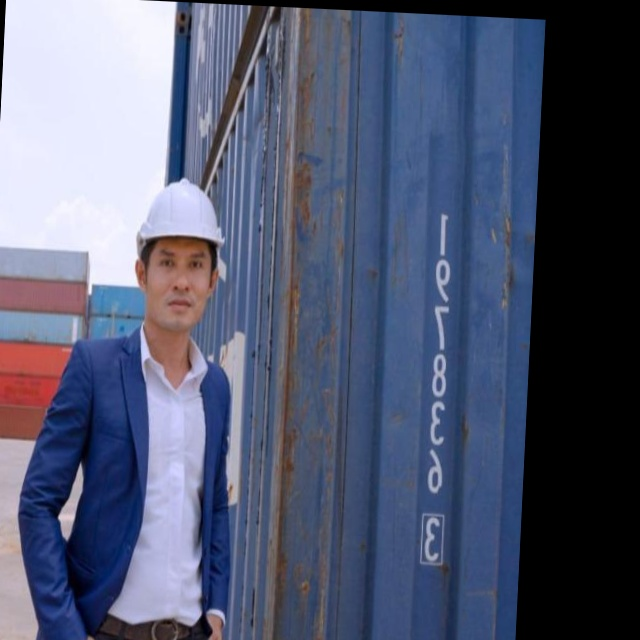Con_Casco: (128, 176, 226, 331)
Sin_Chaleco: (61, 320, 245, 640)
